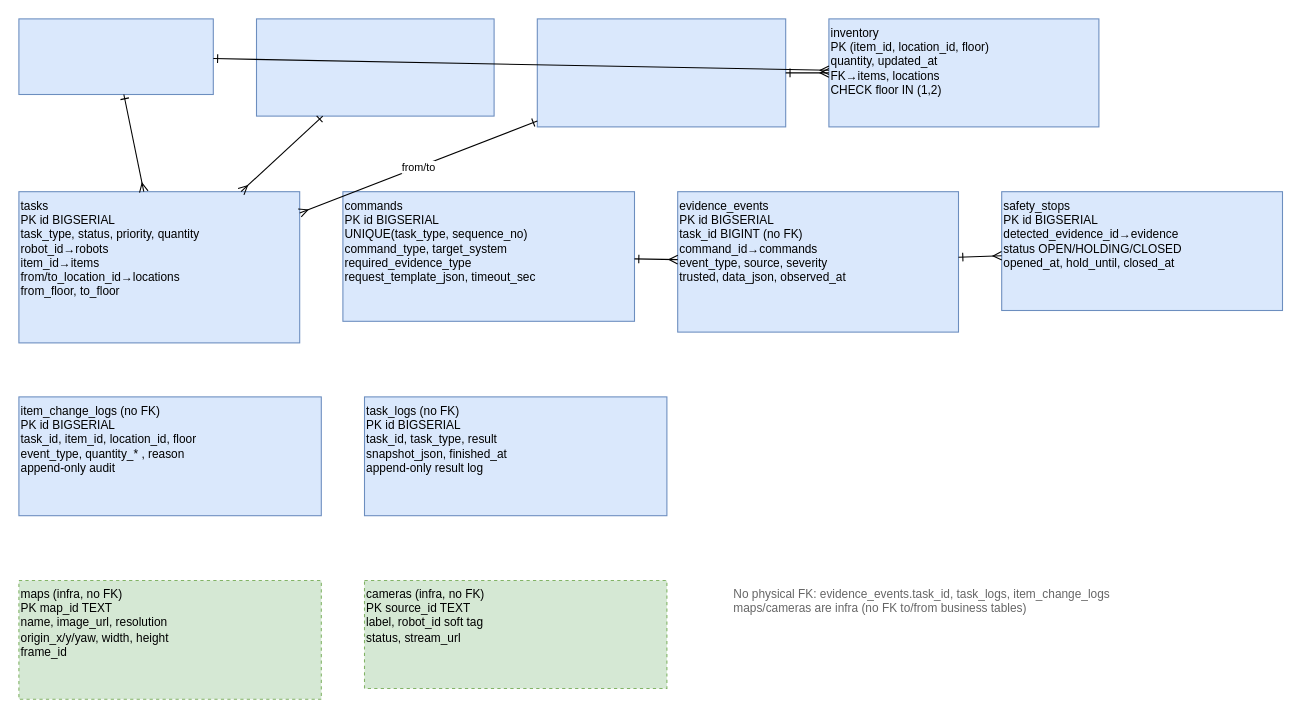
Image size: 1301x718. Some labels were removed from this diagram. Here are the shapes that lost their labels. From the top down, the centre of each, then its label:
[115,56]: items PK id TEXT name TEXT
[374,67]: robots PK id TEXT domain_id INT status, battery_level, last_seen_at
[661,72]: locations PK id TEXT type, status x, y, yaw, marker_id map_id TEXT (soft, no FK)
